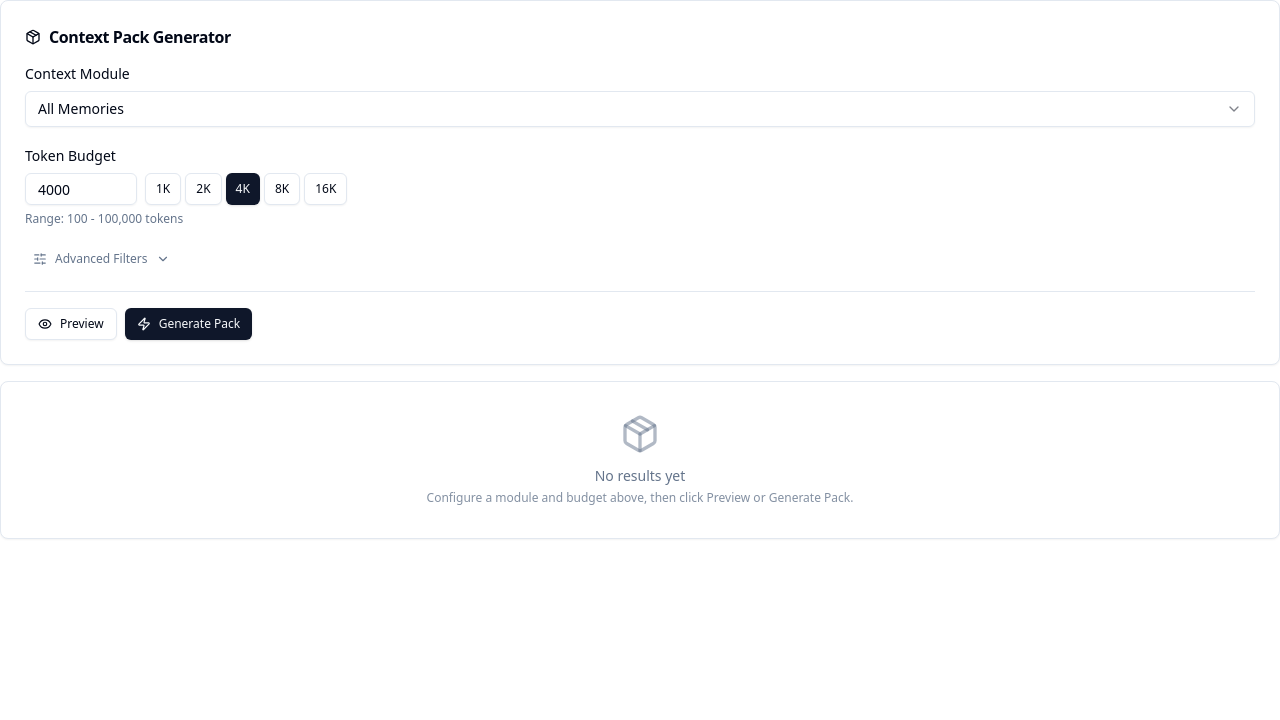
Scenario: ContextPackGenerator › Budget Presets › updates budget when preset button is clicked
Click the button named "set budget to 8000".
click(282, 189)  # box 264,173 -> 300,205
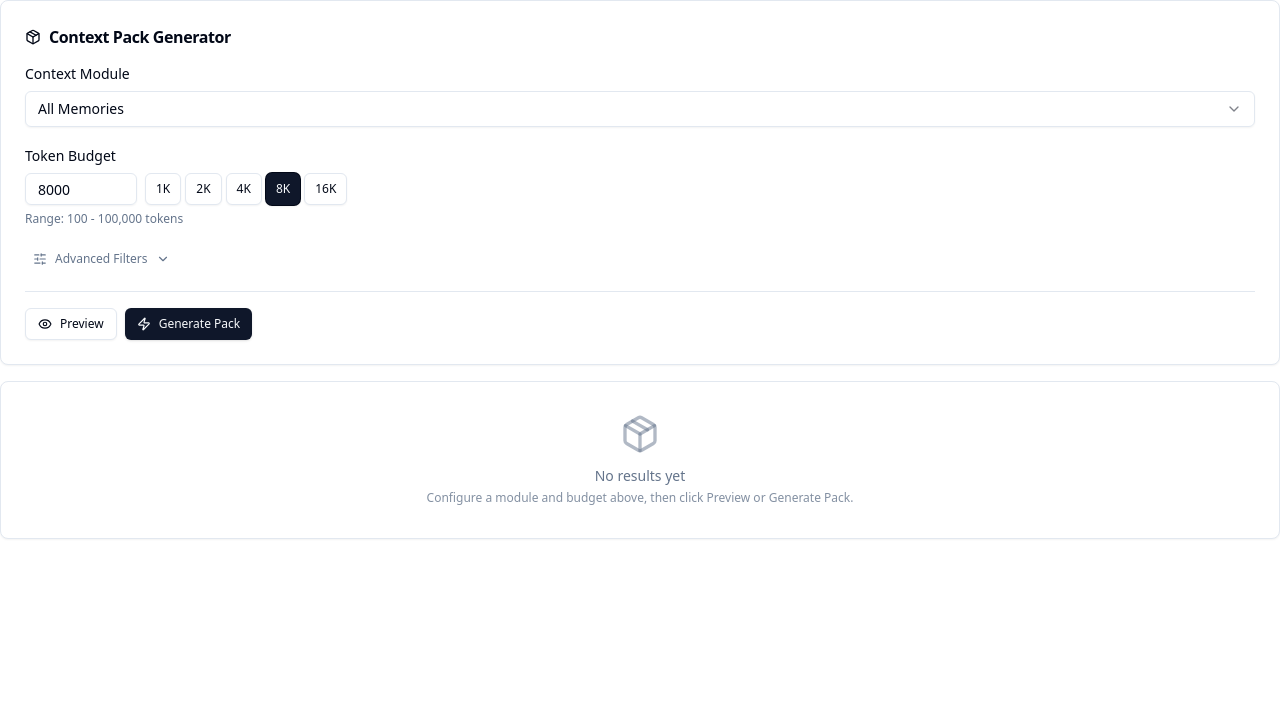
Expected: the number field labelled "Token Budget" holds "8000", 25,173 -> 137,205
